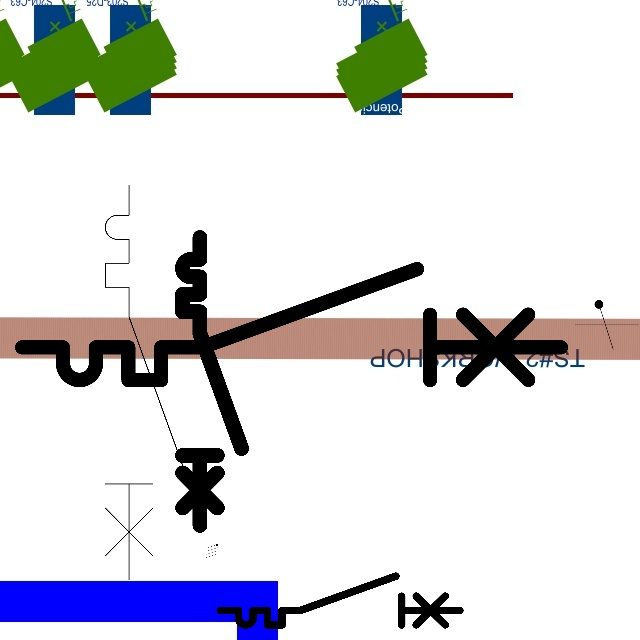interruptor_termomagnetico: (8, 255, 575, 394), (95, 175, 196, 590), (175, 230, 249, 532), (214, 570, 466, 631)
